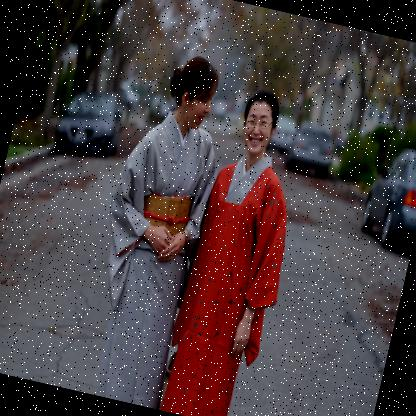Car: (52, 80, 128, 156), (361, 142, 415, 246), (281, 115, 342, 182), (268, 112, 302, 154)
